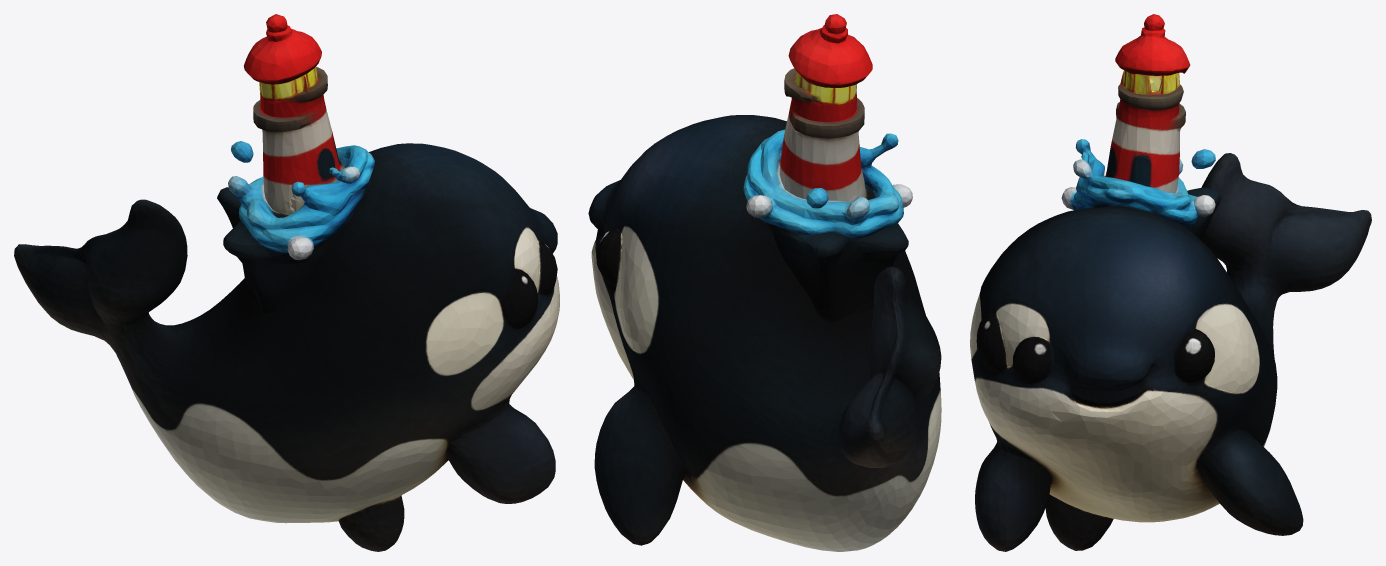
File: beacon_orca_raw.glb
3 views of the same model, side by side, from view 1: azimuth 30°, elevation 25°; view 2: azimuth 150°, elevation 25°; view 3: azimuth 270°, elevation 25° (orthographic). The views are drawn at different scales.
Parts seen in each view (by area): view 1: world; view 2: world; view 3: world.
Part boxes in pixels (x1=…): world: x1=14, y1=14, x2=559, y2=551; world: x1=588, y1=14, x2=941, y2=551; world: x1=970, y1=14, x2=1371, y2=551.
Size of the model in its own units: 0.7131 by 0.8756 by 0.6334.
Materials: 1 (1 with a texture image).
